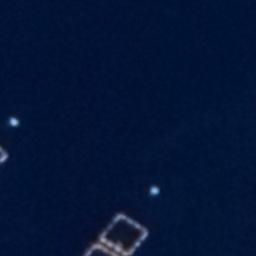square_solid: (95, 210, 152, 256)
